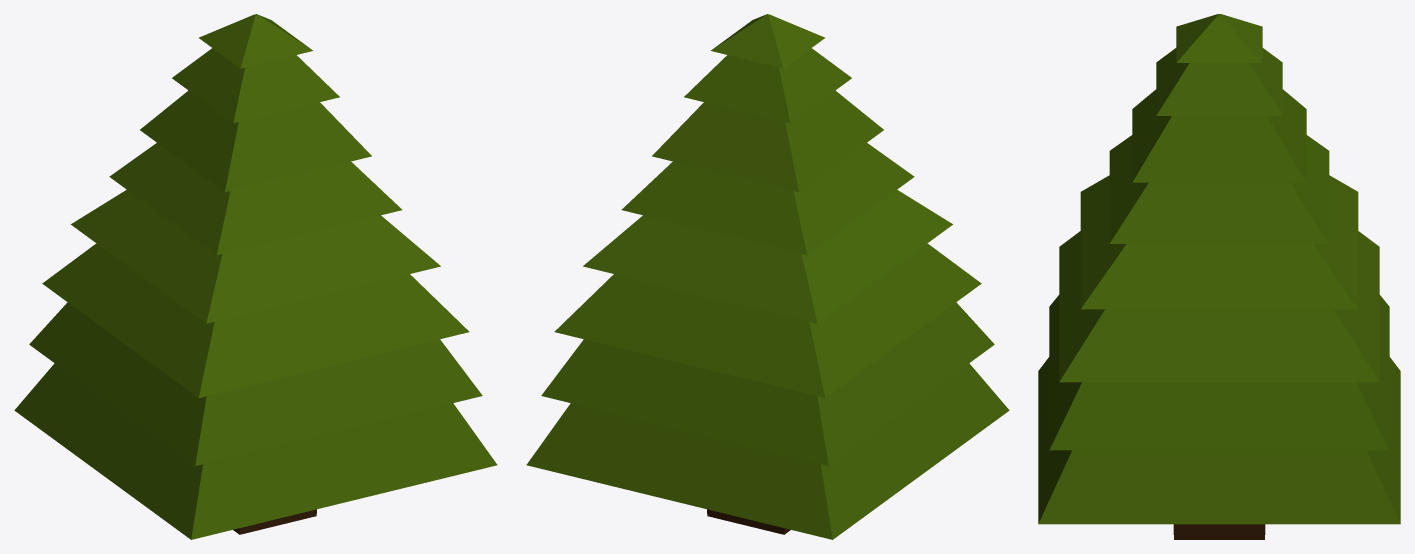
File: obj_tree4.fbx
3 renders of one model, left to right at view 1: azimuth 30°, elevation 25°; view 2: azimuth 150°, elevation 25°; view 3: azimuth 270°, elevation 25°, orthographic. The views are drawn at different scales.
Parts seen in each view (by area): view 1: Obj_tree4; view 2: Obj_tree4; view 3: Obj_tree4.
Part boxes in pixels (x1,y1,x2,y2): Obj_tree4: (14, 14, 497, 539); Obj_tree4: (526, 14, 1009, 539); Obj_tree4: (1038, 14, 1400, 539).
Size of the model in its own units: 398 by 613 by 398.
